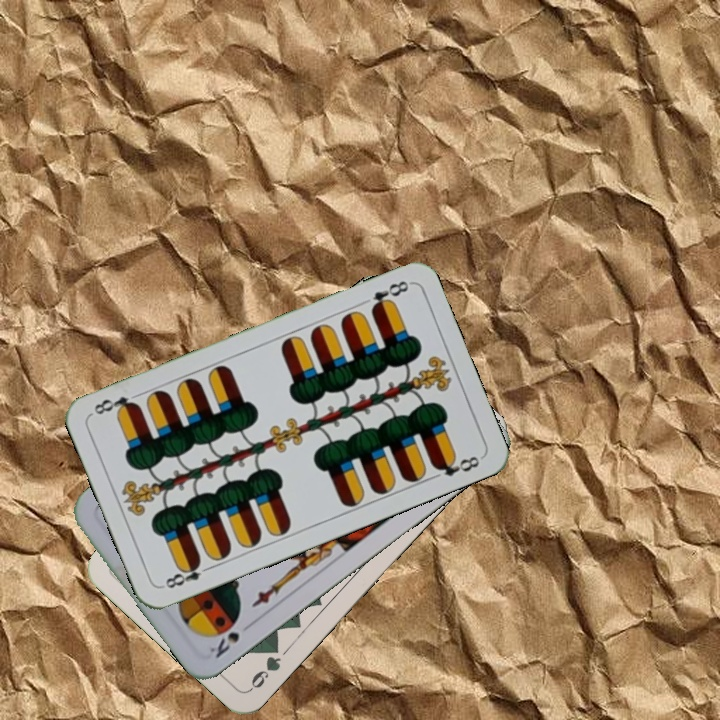E8: (159, 556, 215, 592), (367, 276, 411, 315)
G9: (245, 639, 284, 694)
SK: (205, 627, 242, 661)
